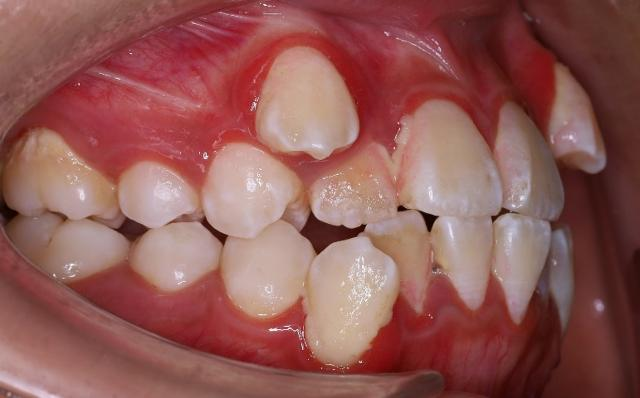canine class II 1/4: (224, 42, 400, 368)
molar class II 1/4: (1, 129, 127, 303)
